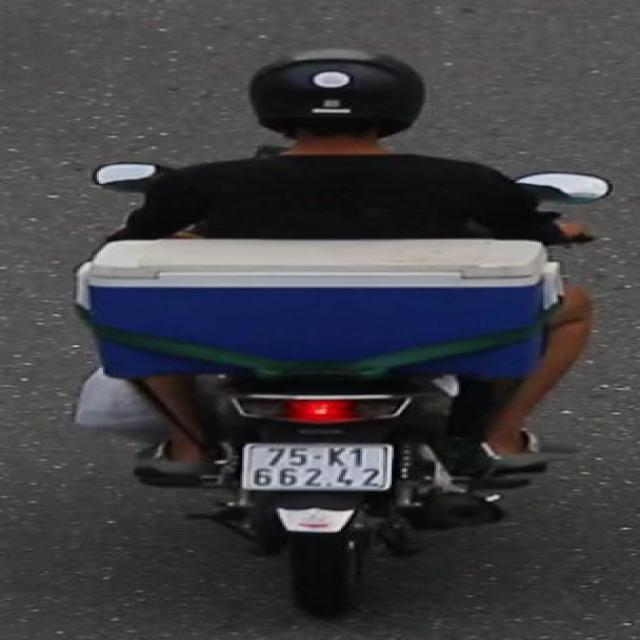LP: (238, 440, 404, 499)
helmet: (239, 46, 439, 167)
